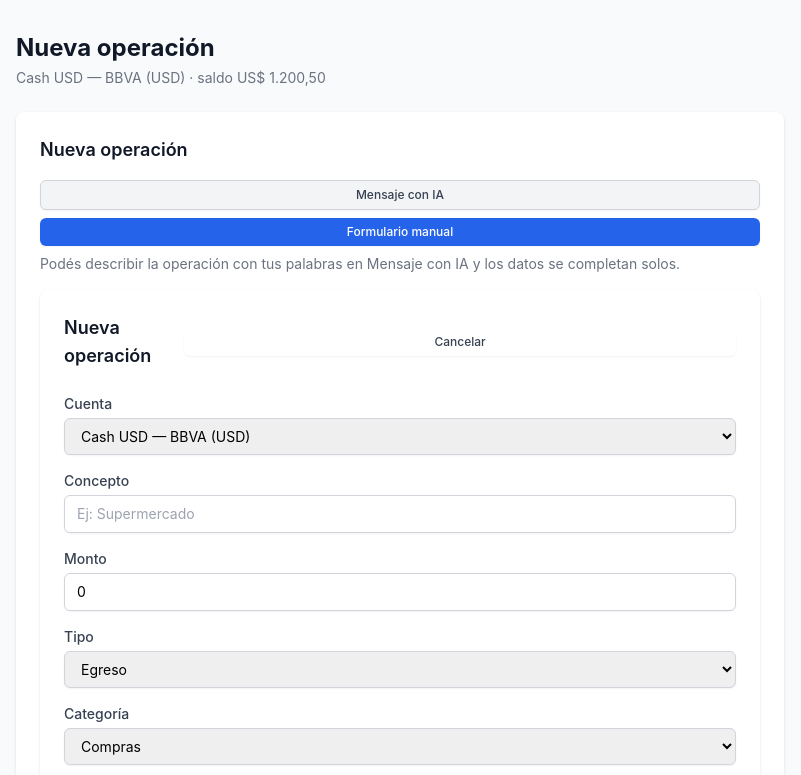
Test: NewOperationPage (tabs IA / manual) › shows the backend detail when confirming the extracted operation fails
The width and height of the screenshot is (801, 775).
Click the button "Mensaje con IA". click: [400, 195]
box: [40, 180, 760, 210]
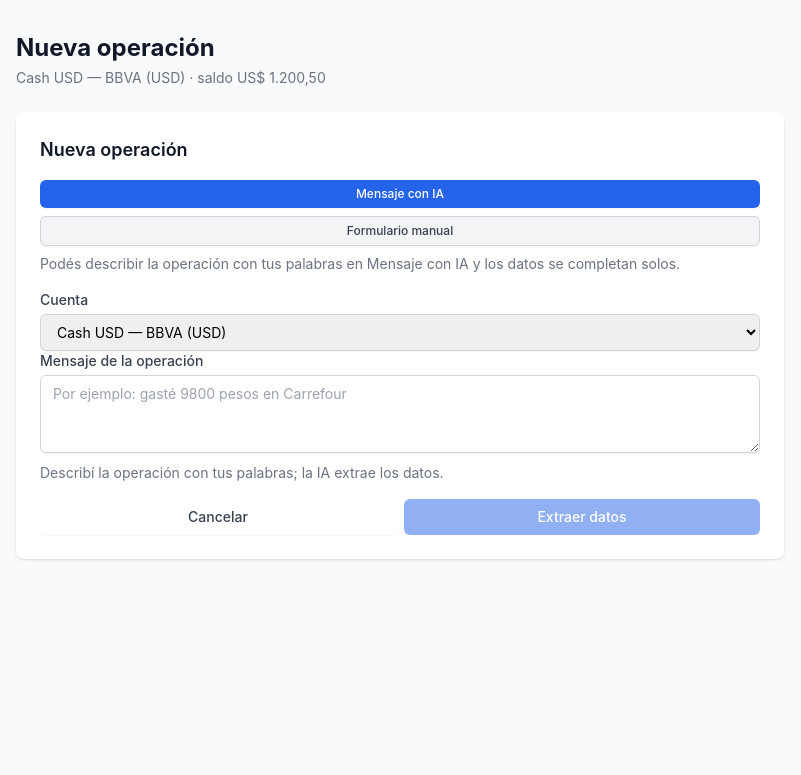
Type "gaste 99999 pesos" into the text box labelled "Mensaje de la operación". click: [400, 414]
box: [40, 375, 760, 453]
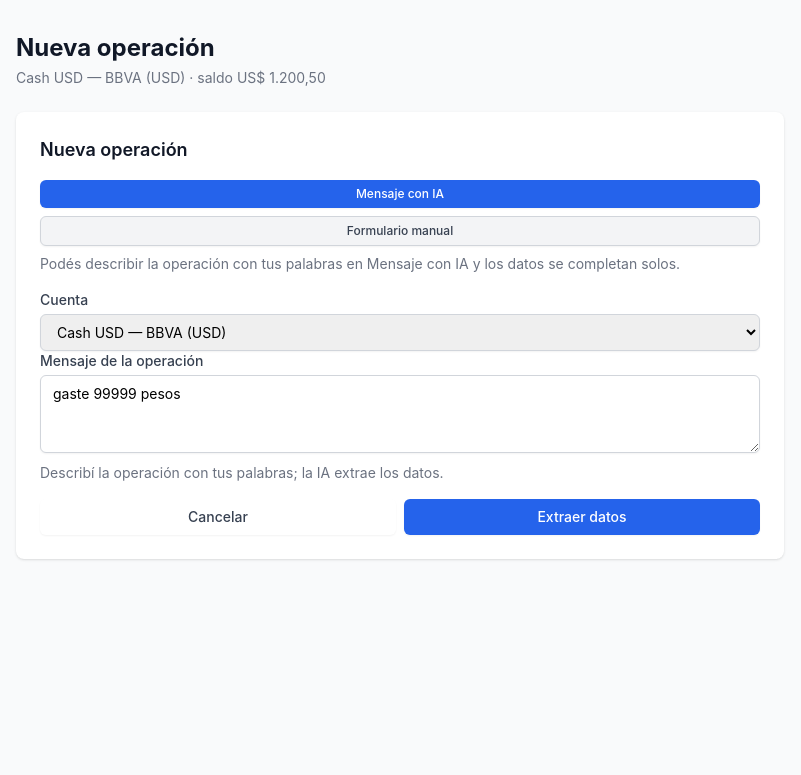
Click the button "Extraer datos". click: [582, 517]
box: [404, 499, 760, 535]
(page scrolled)
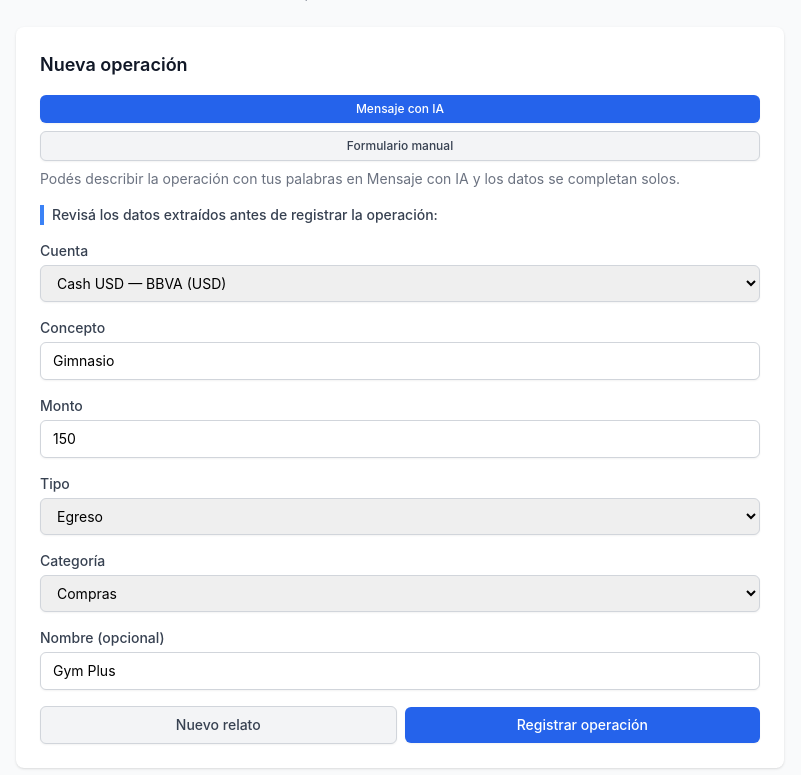
Expected: the field labelled "Concepto" is shown, [40, 342, 760, 380]
Click the button "Registrar operación". click: [582, 725]
box: [404, 707, 760, 743]
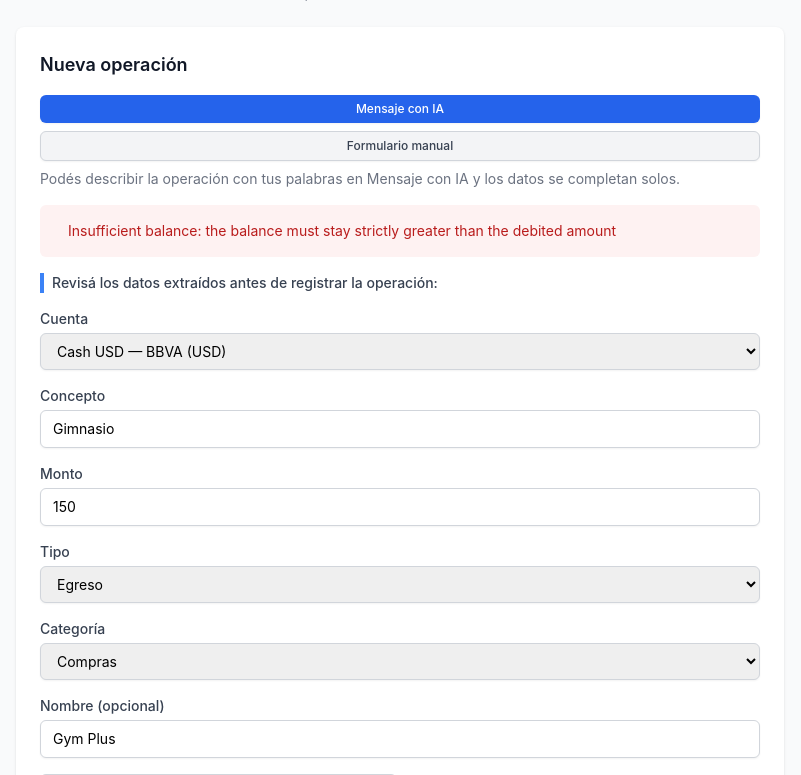
Expected: the text "Insufficient balance" is shown, [68, 222, 616, 239]
